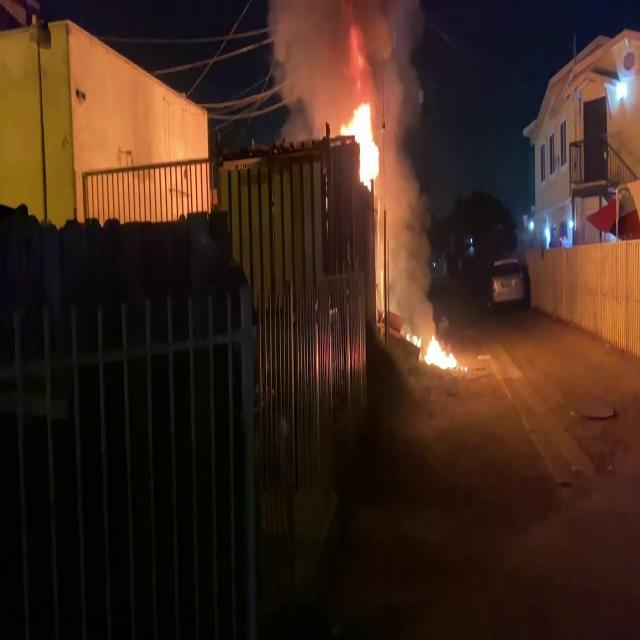Fire: (340, 94, 384, 194), (419, 323, 463, 376)
Smoke: (256, 0, 427, 132), (368, 133, 434, 334)
